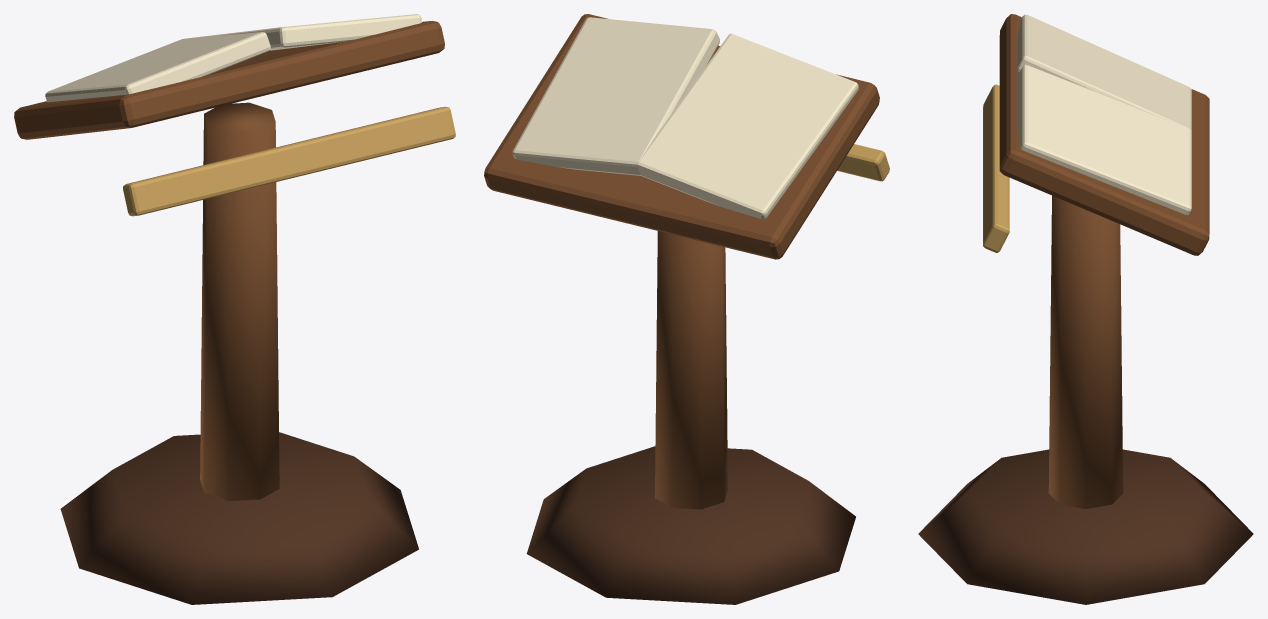
Rendered from lectern.glb.
3 views of the same model, side by side, from view 1: azimuth 30°, elevation 25°; view 2: azimuth 150°, elevation 25°; view 3: azimuth 270°, elevation 25° (orthographic). The views are drawn at different scales.
Visible parts, largest first — view 1: lectern; view 2: lectern; view 3: lectern.
Boxes of the visible parts, <box> form: lectern: <box>14,14,455,604</box>; lectern: <box>484,14,889,604</box>; lectern: <box>918,14,1253,604</box>.
Bounding box in the file's own units: 0.9 × 1.4 × 0.9.
